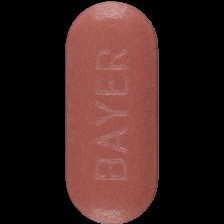67296-0154: (0, 0, 224, 224)
